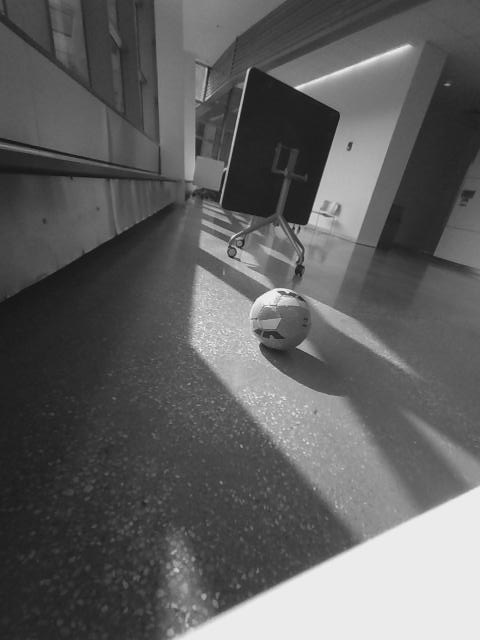ball: (247, 286, 315, 358)
